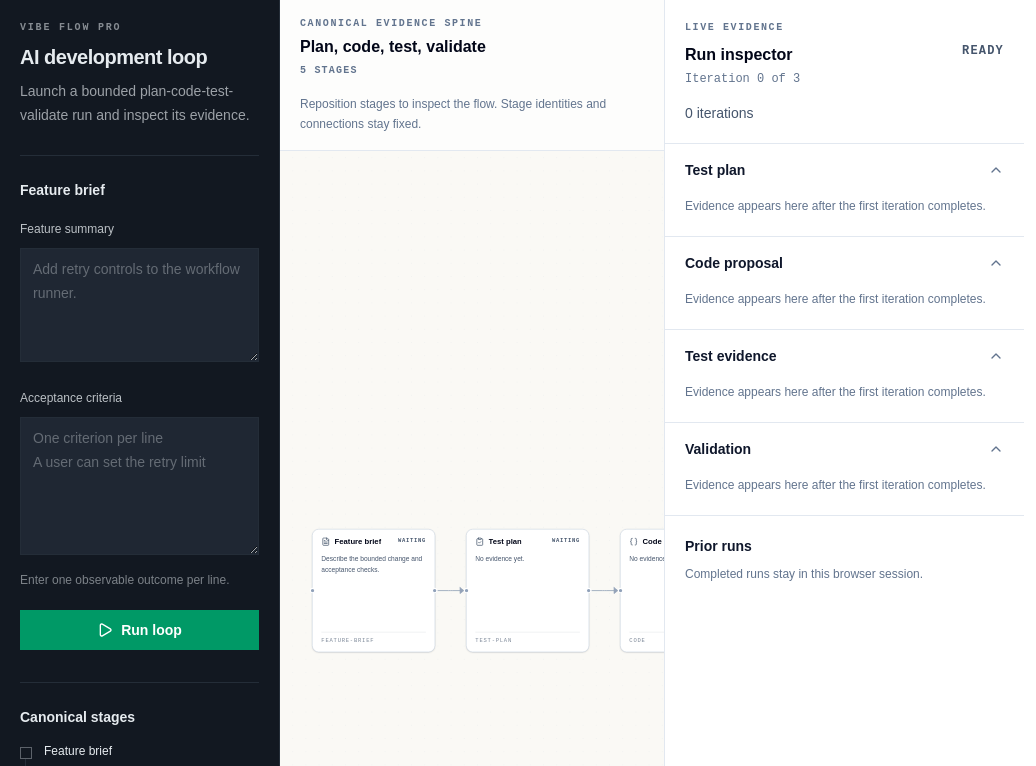
Scenario: DevelopmentLoopWorkspace › shows iteration 1 and live test-plan evidence while code is still running
Type "Add retry controls" into the text box labelled "Feature summary" at coordinates (140, 305), box left=20, top=248, right=259, bottom=362
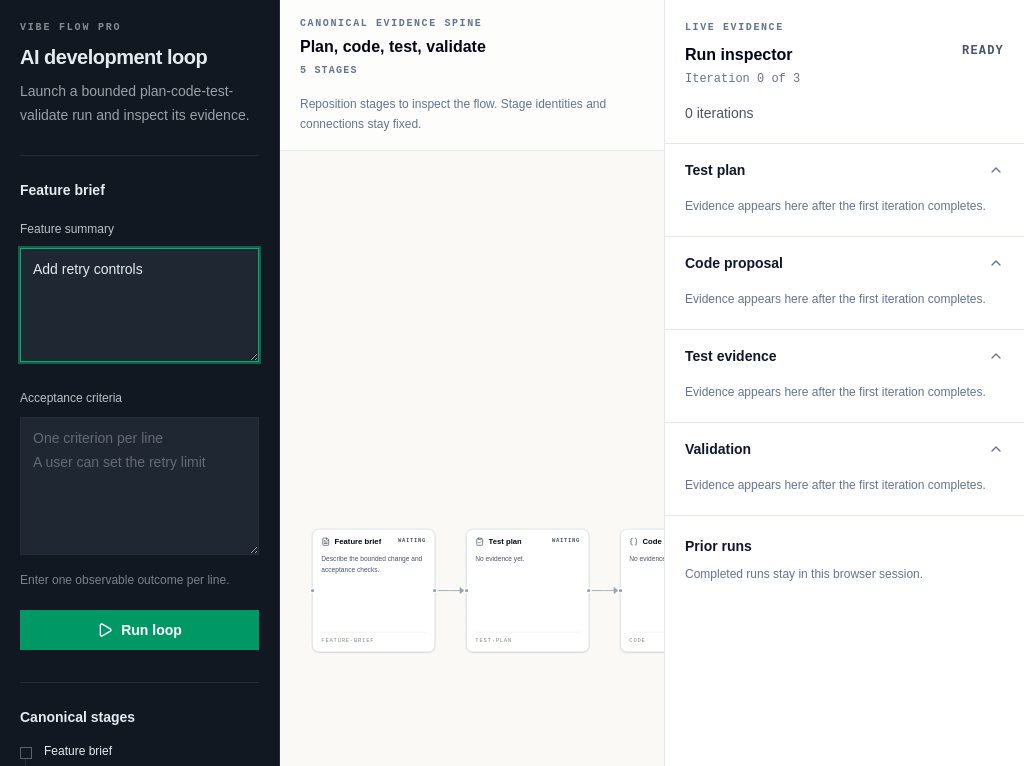
Type "A user can set the retry limit" into the text box labelled "Acceptance criteria" at coordinates (140, 486), box left=20, top=417, right=259, bottom=555
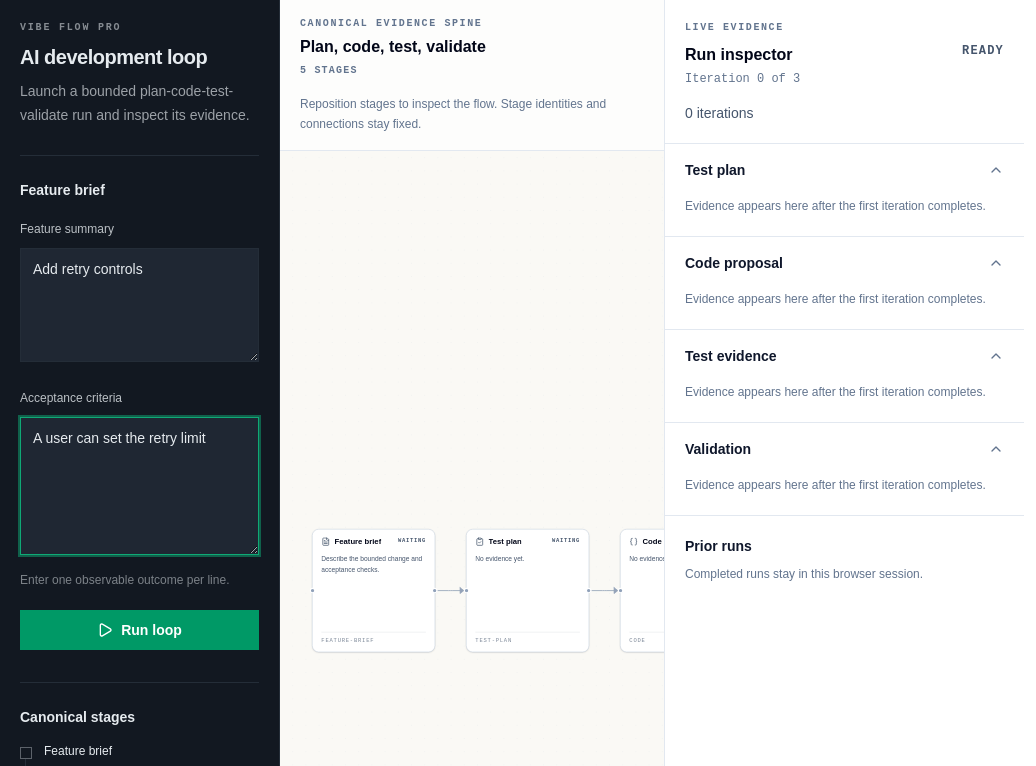
Click the button "Run loop" at coordinates (140, 630), box left=20, top=610, right=259, bottom=650
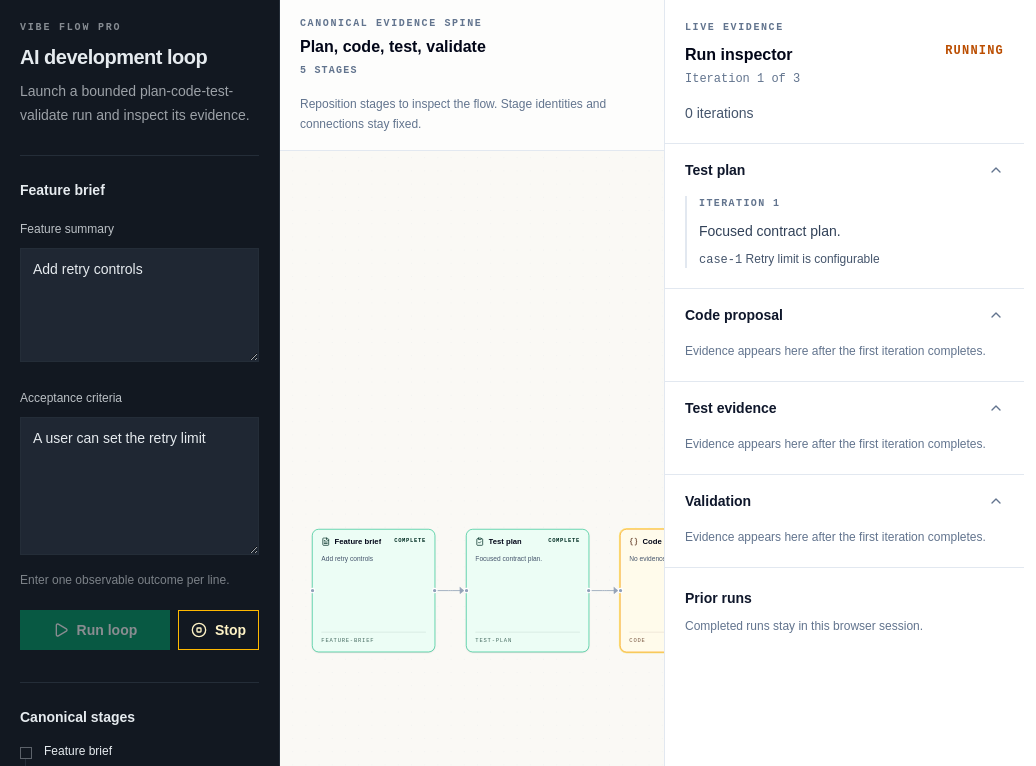
Expected: the text "Iteration 1 of 3" is shown, left=685, top=71, right=800, bottom=87
Expected: the text "Iteration 0 of 3" is gone
Expected: the text "Focused contract plan." below "iterations" is shown, left=699, top=223, right=841, bottom=239
Click the button "Stop" at coordinates (218, 630), box left=178, top=610, right=259, bottom=650
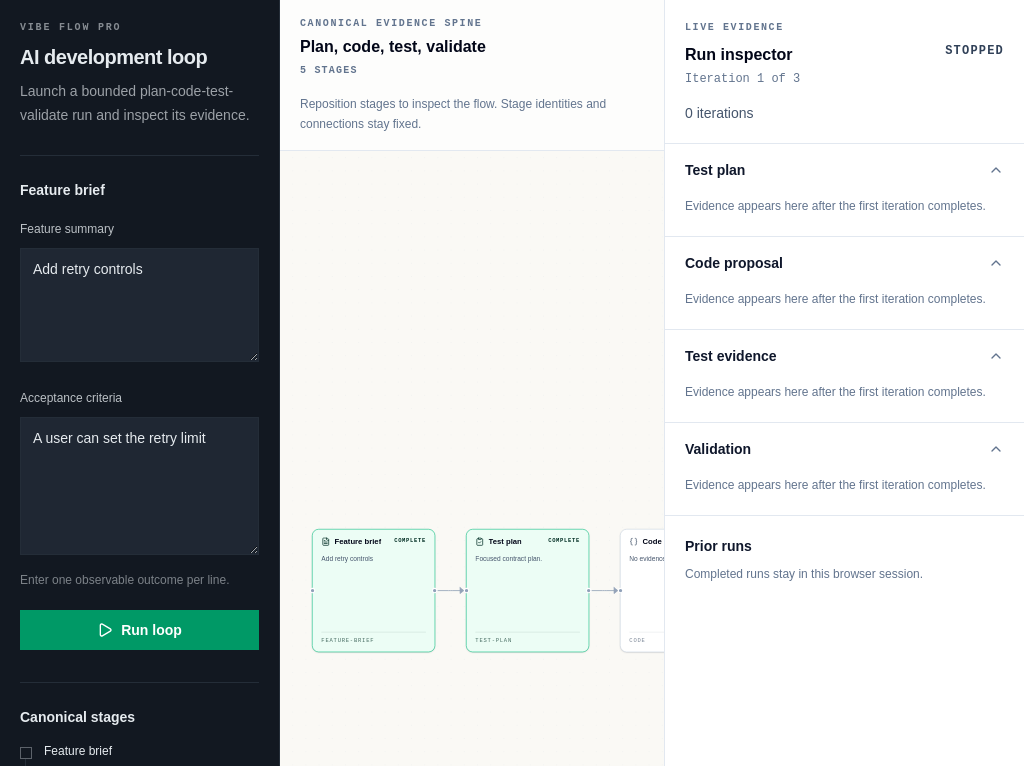
Expected: the text "Iteration 0 of 3" is not shown
Expected: the text "Iteration 1 of 3" is shown, left=685, top=71, right=800, bottom=87
Expected: the text "Stopped" is shown, left=945, top=43, right=1004, bottom=59
